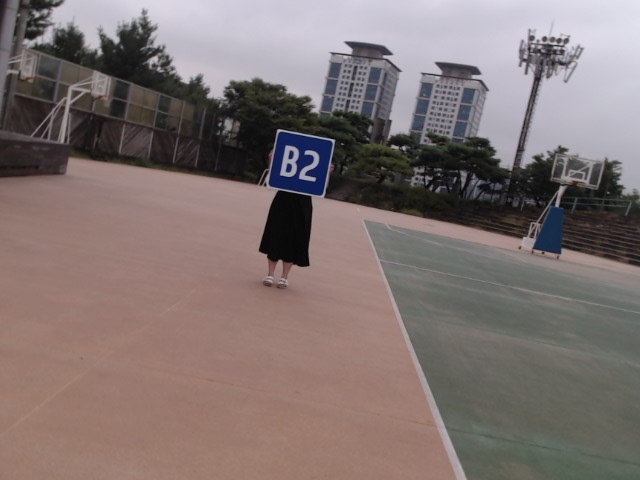delivery_b2: (267, 130, 334, 197)
